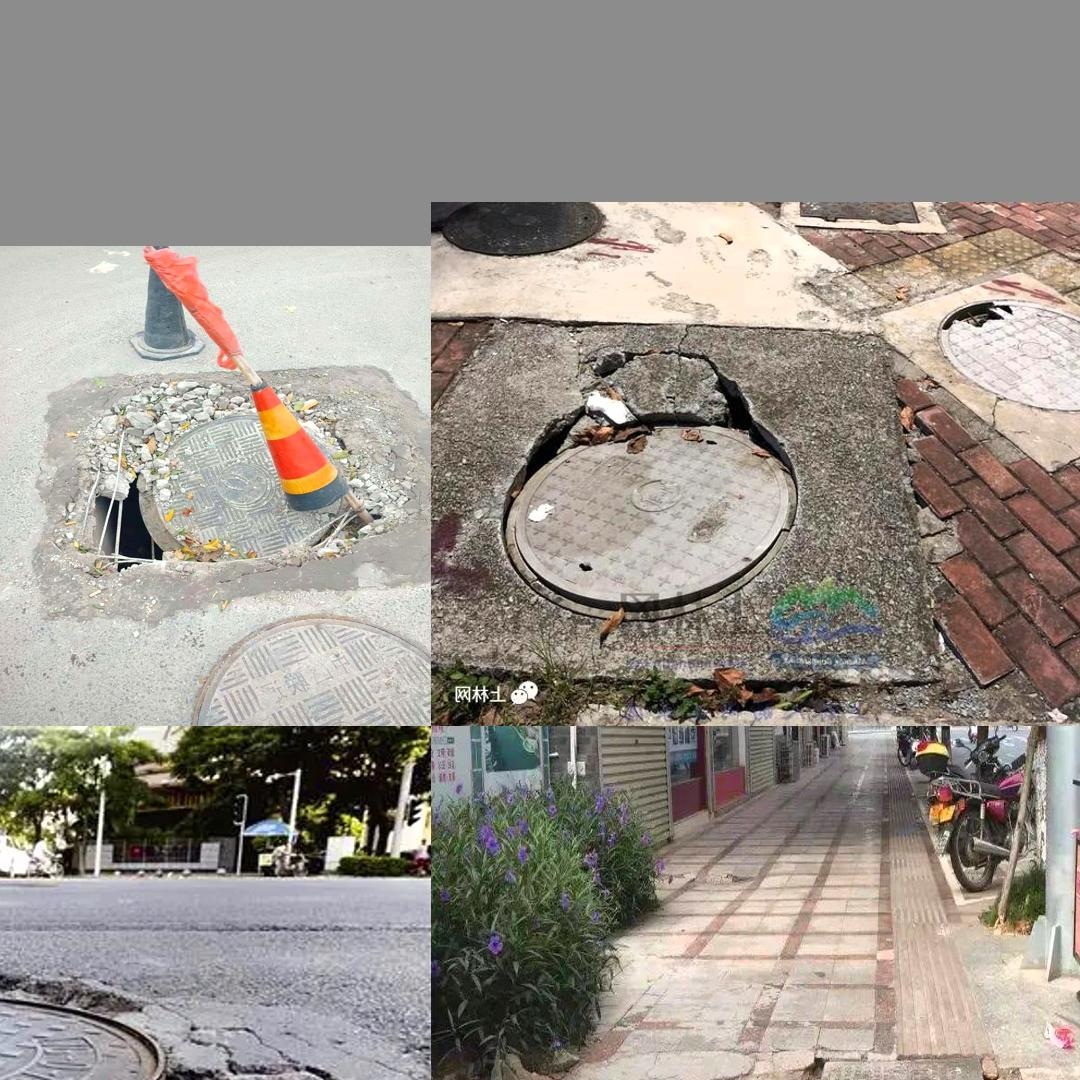circle: (434, 306, 951, 685), (89, 410, 365, 563), (0, 971, 381, 1080), (750, 1018, 1070, 1080)
